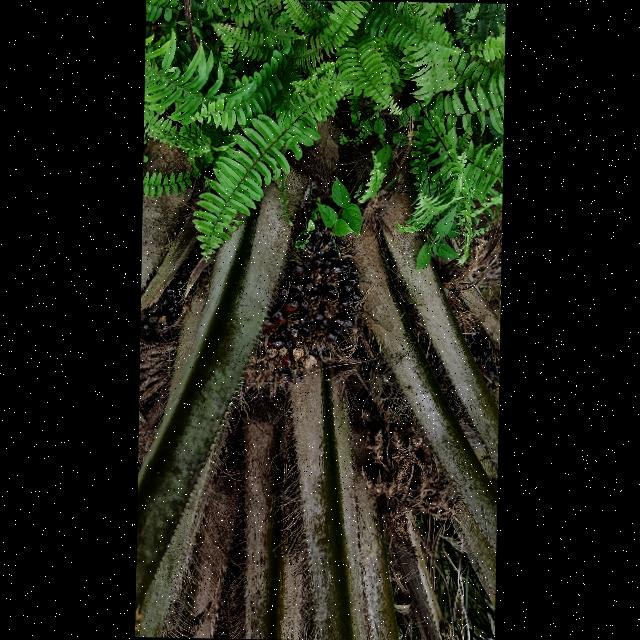Unripe: (243, 222, 360, 391), (140, 253, 197, 326)
